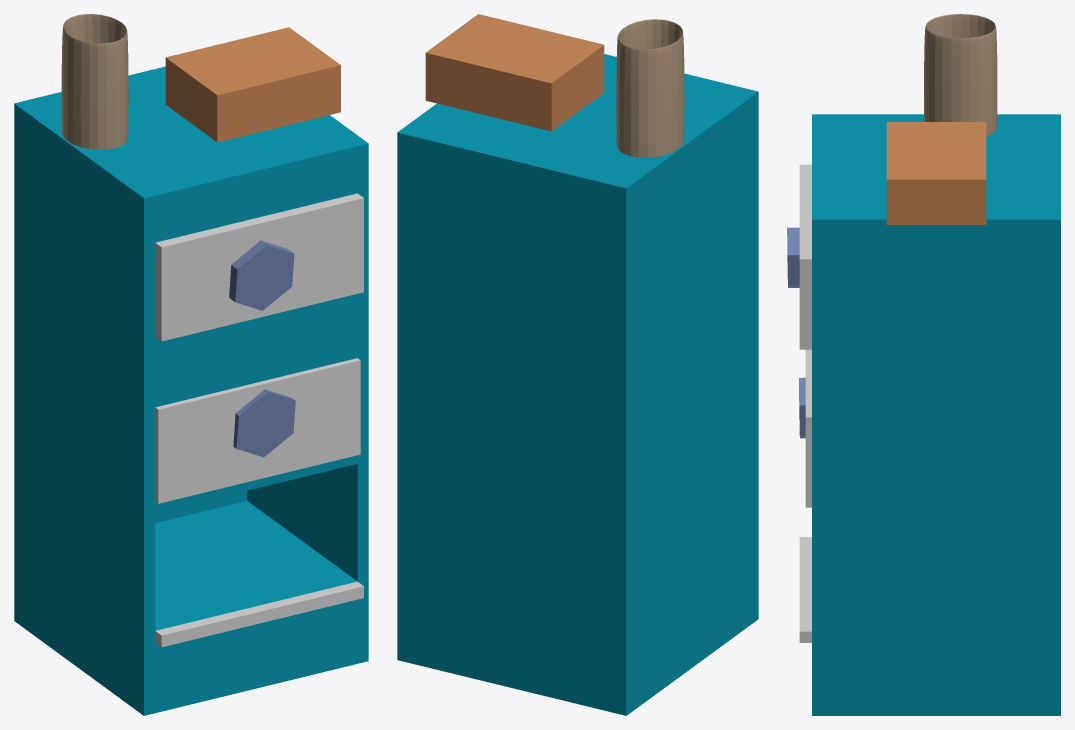
File: Bodacious Jarv-Stantia.glb
3 renders of one model, left to right at view 1: azimuth 30°, elevation 25°; view 2: azimuth 150°, elevation 25°; view 3: azimuth 270°, elevation 25°, orthographic. The views are drawn at different scales.
Visible parts, largest first — view 1: Mesh_Mesh_head_geo.001_lambert2SG.001; view 2: Mesh_Mesh_head_geo.001_lambert2SG.001; view 3: Mesh_Mesh_head_geo.001_lambert2SG.001.
Part boxes in pixels (x1,y1,x2,y2): Mesh_Mesh_head_geo.001_lambert2SG.001: [14, 14, 368, 715]; Mesh_Mesh_head_geo.001_lambert2SG.001: [397, 14, 758, 715]; Mesh_Mesh_head_geo.001_lambert2SG.001: [787, 14, 1060, 715].
Size of the model in its own units: 21 by 53 by 22.
